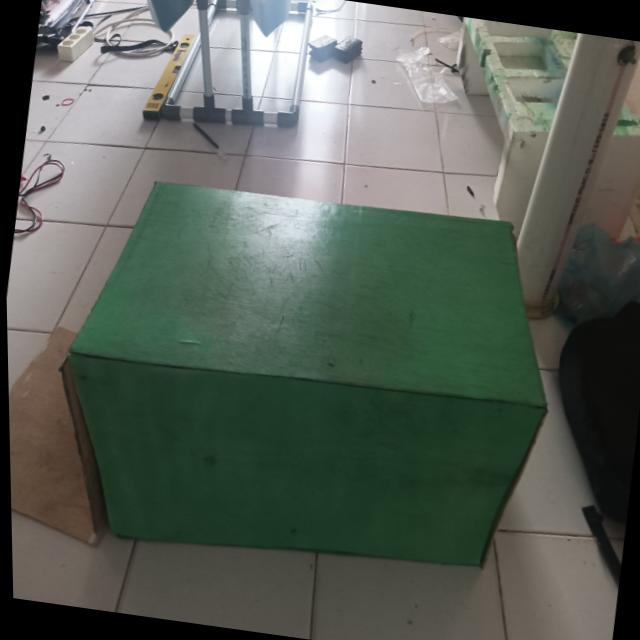green_box: (34, 152, 586, 612)
